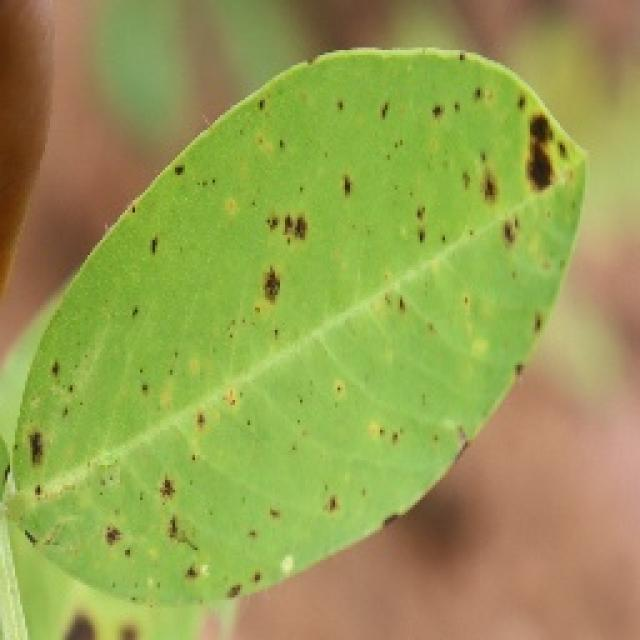Yellowish: (23, 46, 572, 640)
